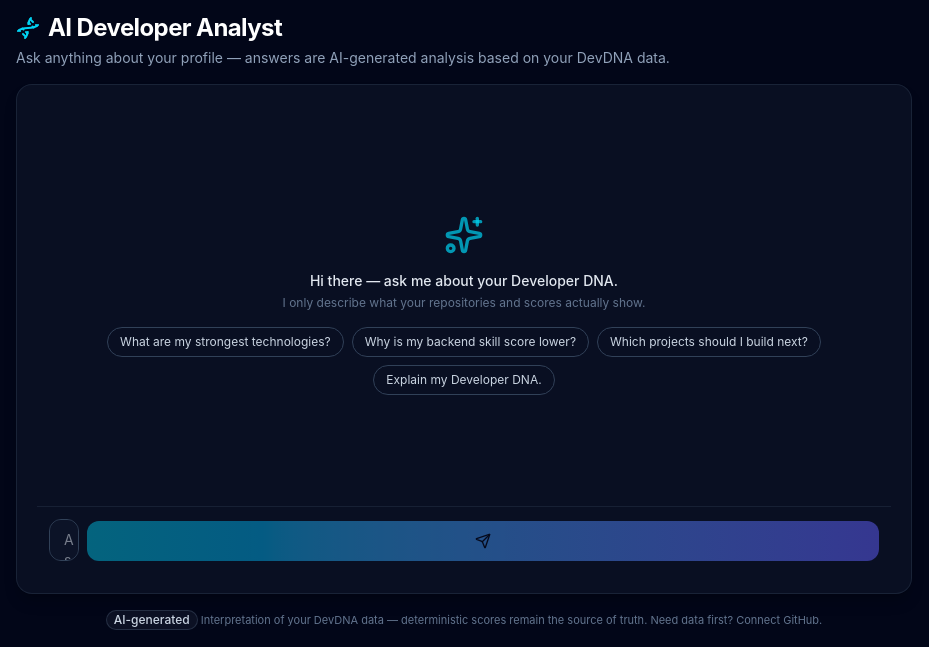
Test: AnalystPage › surfaces an honest error when the AI layer is unavailable
The image size is (929, 647).
In the text box with placeholder "Ask about your skills, gaps, roadmap…": (64, 540) [49,519,79,561], type "Hello?"
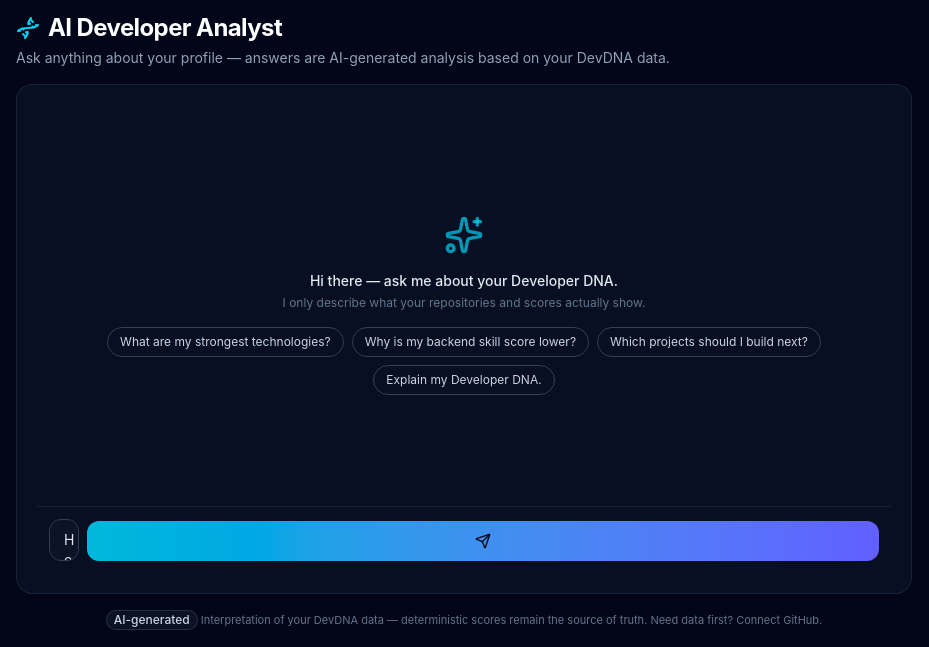
Click the button named "Send message": (483, 541) [87,521,879,561]
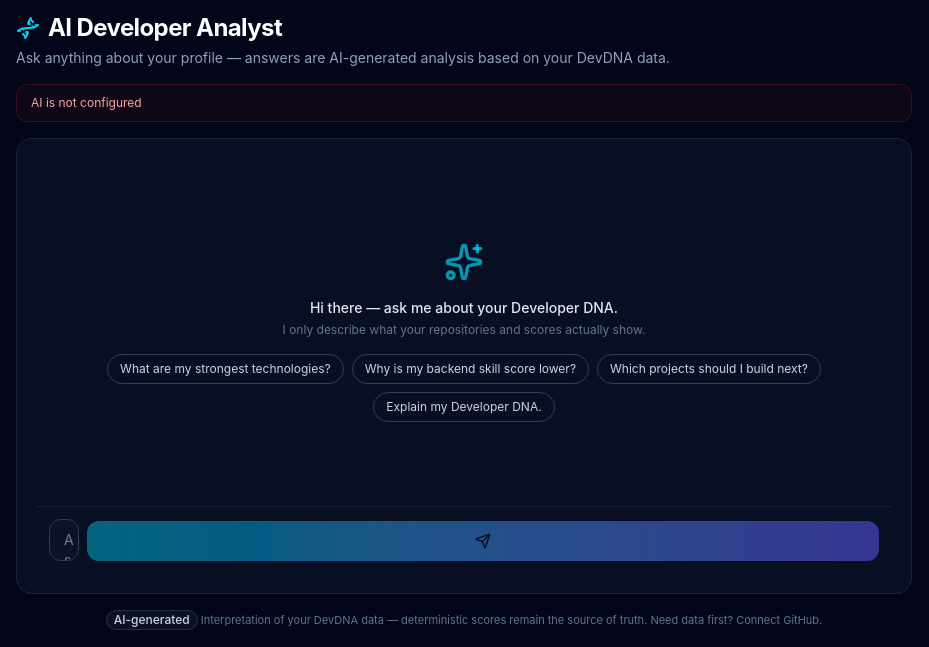
Now the message reads "AI is not configured", box [31,95,142,110]
